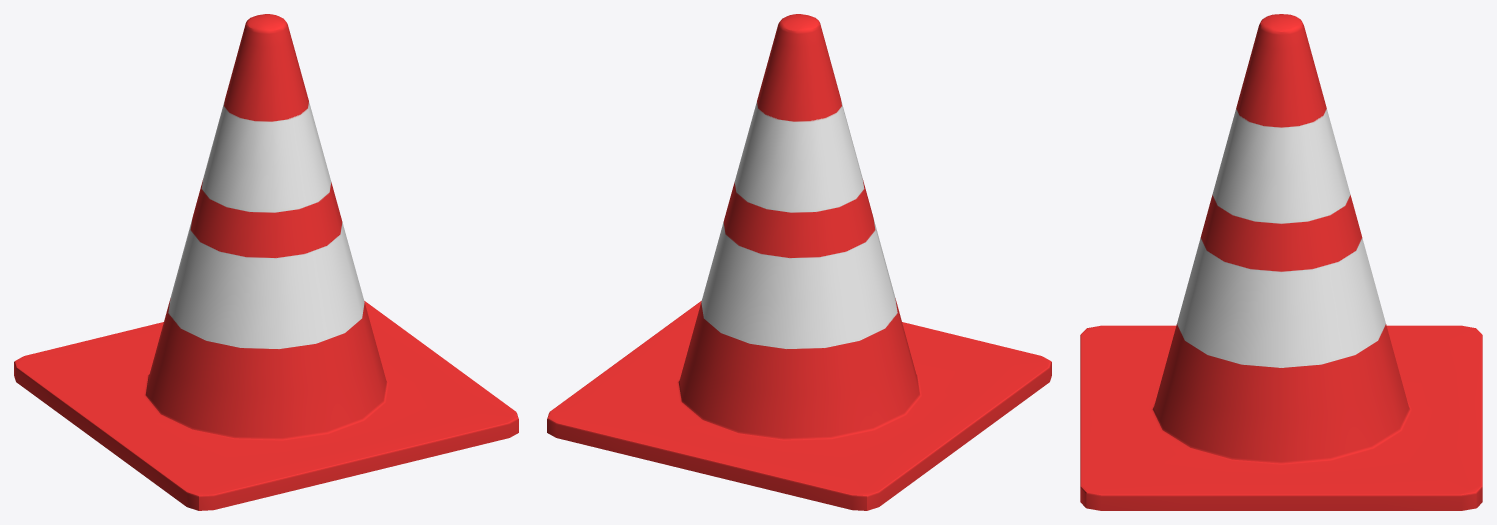
The model's file is TRRAFIC CONE.fbx.
3 renders of one model, left to right at view 1: azimuth 30°, elevation 25°; view 2: azimuth 150°, elevation 25°; view 3: azimuth 270°, elevation 25°, orthographic. The views are drawn at different scales.
Visible parts, largest first — view 1: pPlane1; view 2: pPlane1; view 3: pPlane1.
Part boxes in pixels (box(x1,y1,x2,y2)): pPlane1: box(14, 14, 518, 510); pPlane1: box(547, 14, 1051, 510); pPlane1: box(1080, 14, 1482, 510).
Bounding box in the file's own units: 2.24 × 2.49 × 2.24.
